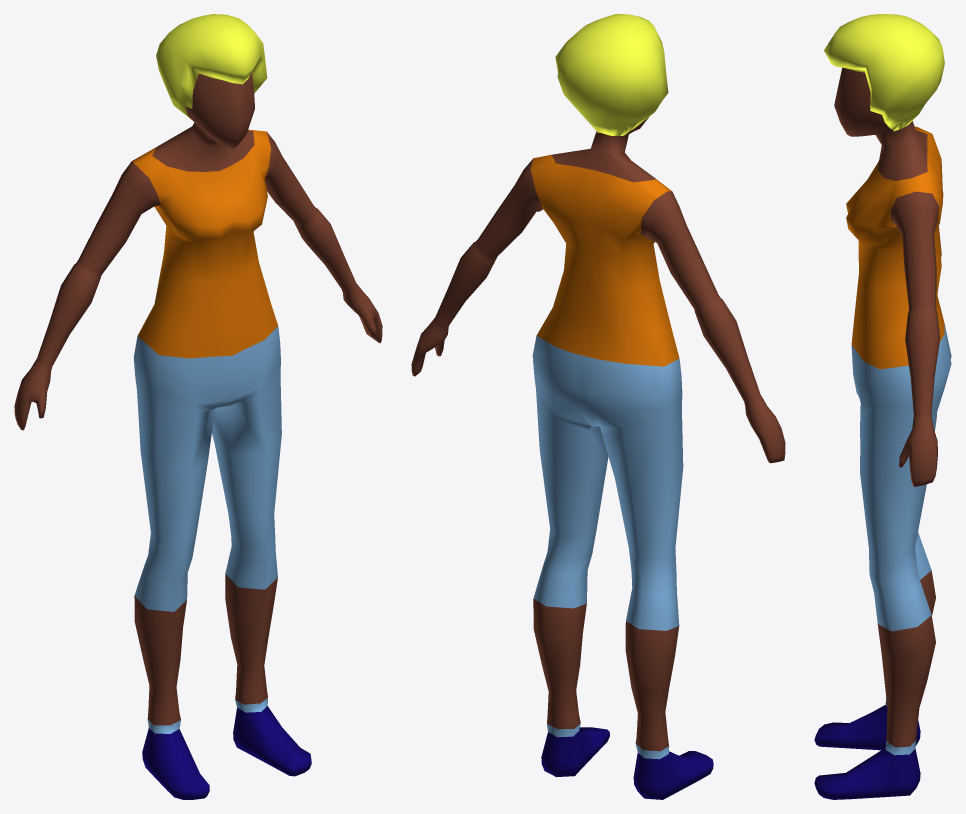
Rendered from female_low_poly_game_character.glb.
The picture shows the model from 3 angles, left to right: view 1: azimuth 30°, elevation 25°; view 2: azimuth 150°, elevation 25°; view 3: azimuth 270°, elevation 25°; orthographic projection.
Parts seen in each view (by area): view 1: corpo.004; view 2: corpo.004; view 3: corpo.004.
Boxes of the visible parts, x1,y1,x2,y2 form: corpo.004: [14, 14, 382, 799]; corpo.004: [411, 14, 785, 799]; corpo.004: [814, 14, 951, 799].
Bounding box in the file's own units: 0.9131 × 1.79 × 0.2982.
